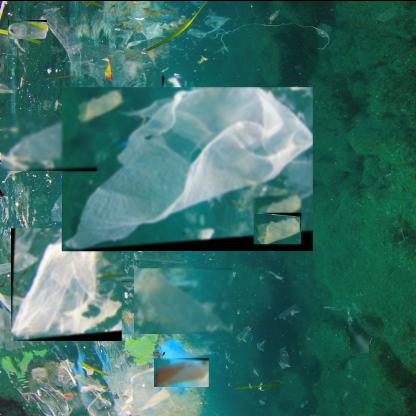can: (350, 332, 370, 352)
waste: (63, 85, 314, 250), (11, 226, 123, 340), (134, 266, 234, 333), (1, 114, 98, 170), (154, 356, 210, 386), (254, 211, 302, 243), (8, 18, 48, 38), (162, 73, 186, 94)
